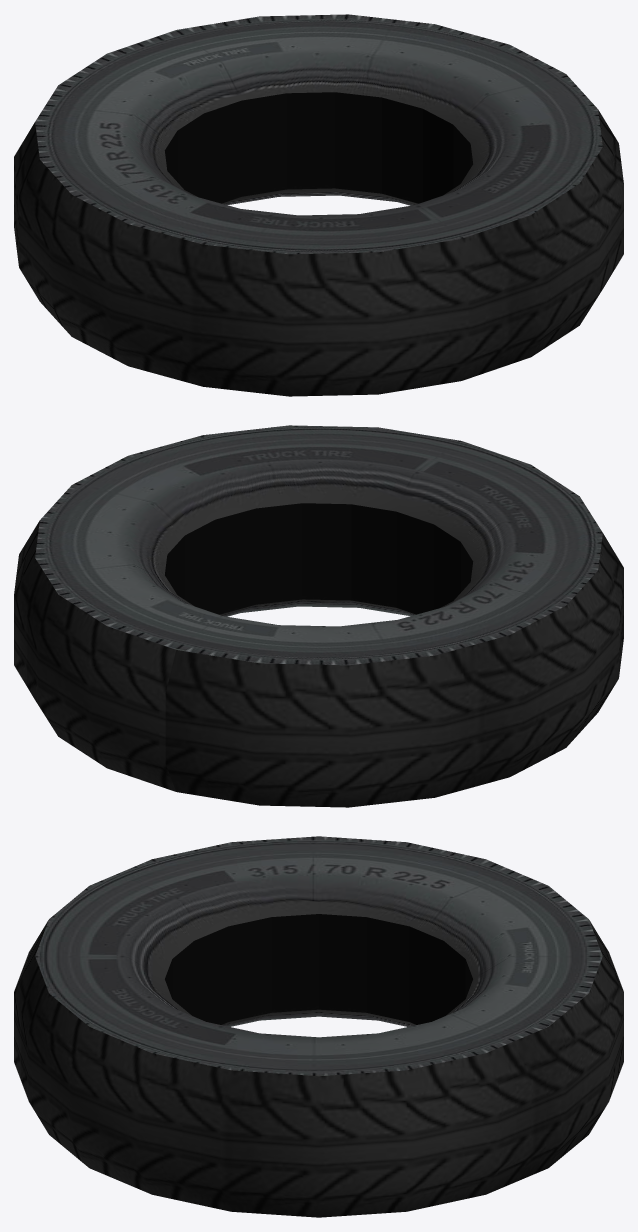
Rendered from LLANTA.fbx.
3 views of the same model, one above another, from view 1: azimuth 30°, elevation 25°; view 2: azimuth 150°, elevation 25°; view 3: azimuth 270°, elevation 25° (orthographic).
Visible parts, largest first — view 1: llanta_low; view 2: llanta_low; view 3: llanta_low.
Boxes of the visible parts, x1=… form: llanta_low: x1=14, y1=14, x2=623, y2=396; llanta_low: x1=14, y1=425, x2=623, y2=807; llanta_low: x1=14, y1=836, x2=623, y2=1217.
Size of the model in its own units: 7.82 by 2 by 7.82.
